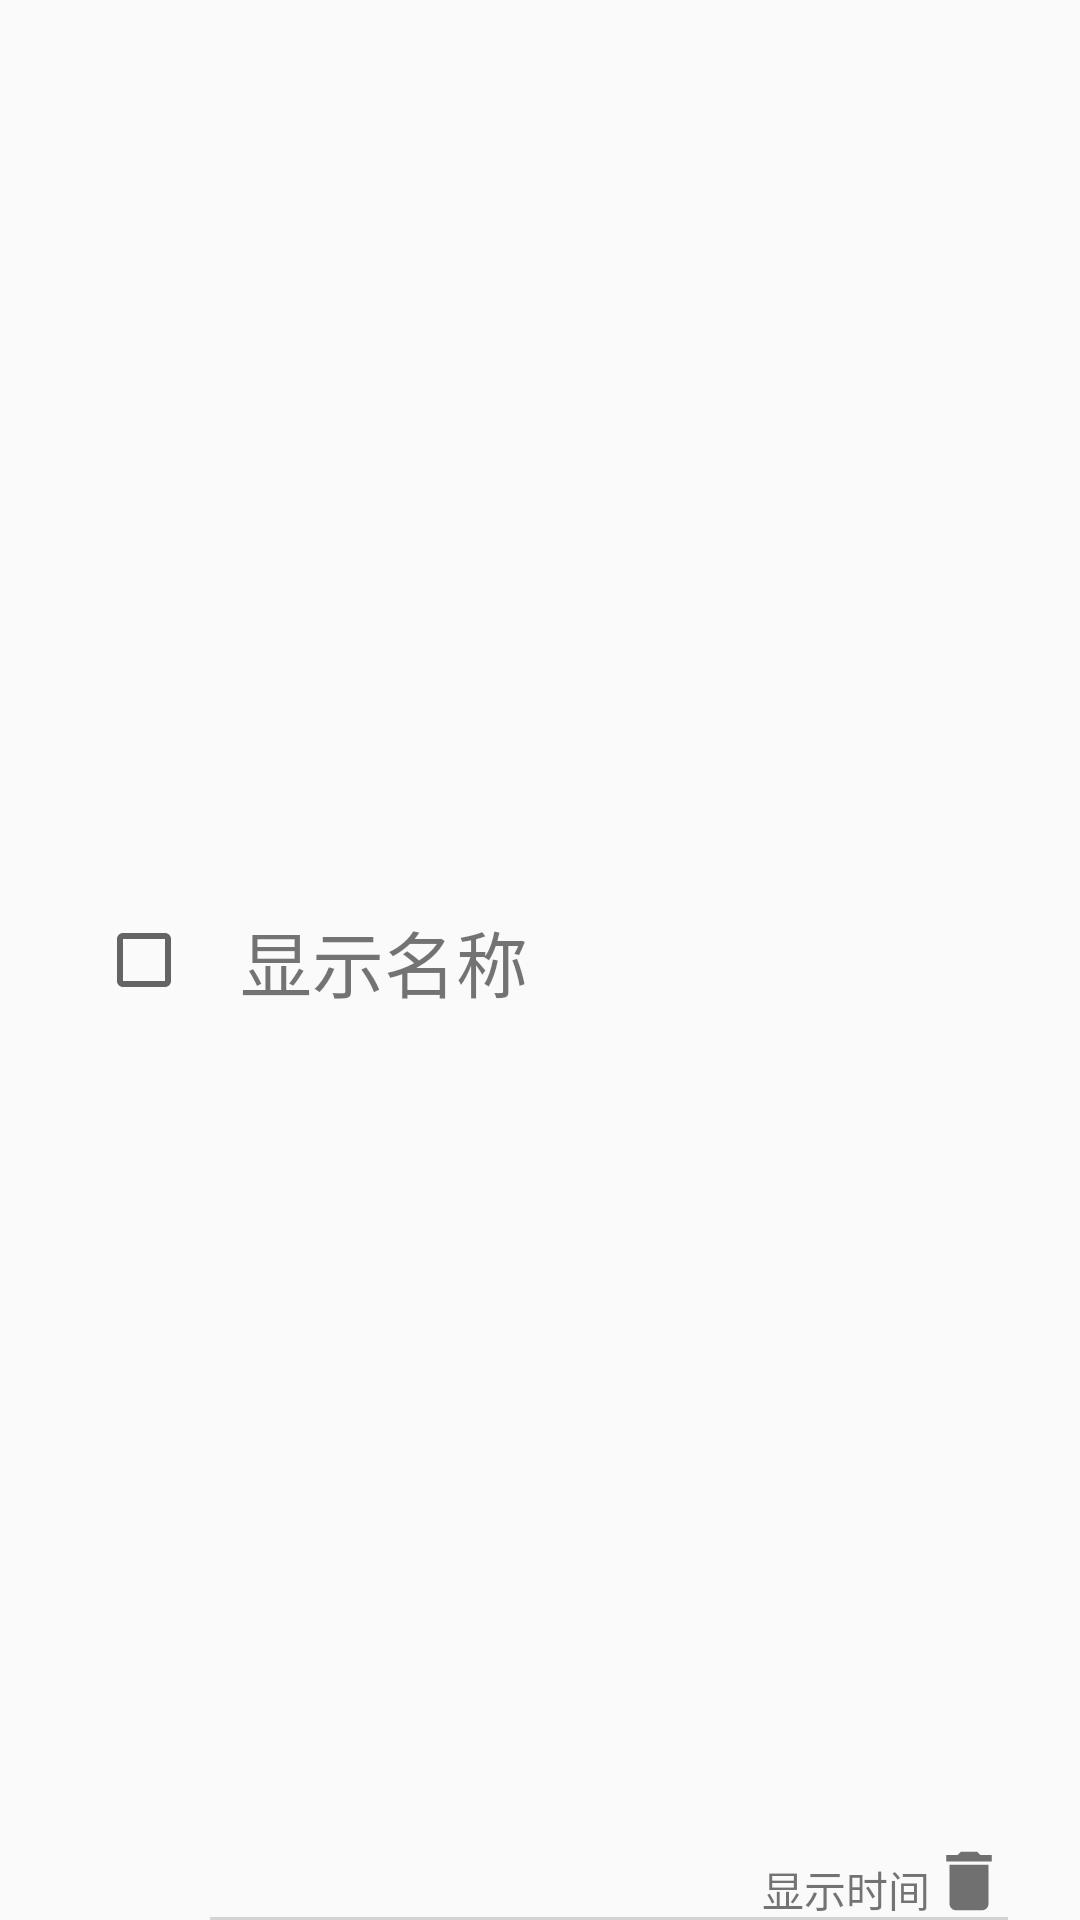

Where to tap for icons on this 1080w x 1920h app screen, as [x,y]:
delete: [969,1881]
